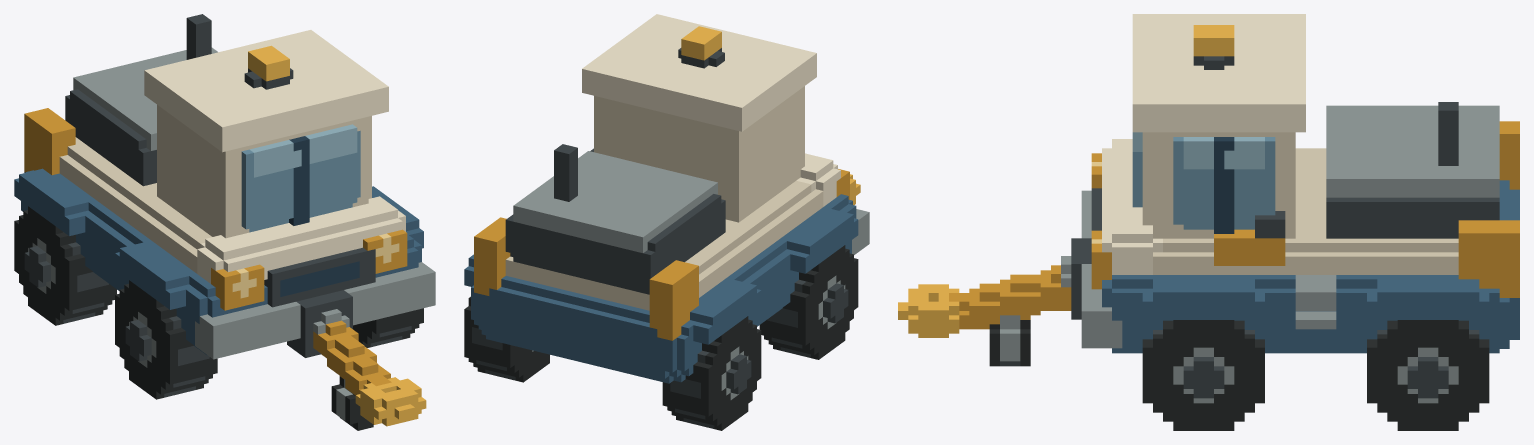
Rendered from airport_tug.glb.
3 renders of one model, left to right at view 1: azimuth 30°, elevation 25°; view 2: azimuth 150°, elevation 25°; view 3: azimuth 270°, elevation 25°, orthographic. The views are drawn at different scales.
Parts seen in each view (by area): view 1: airport_tug; view 2: airport_tug; view 3: airport_tug.
Boxes of the visible parts, x1=… form: airport_tug: x1=14, y1=14, x2=435, y2=430; airport_tug: x1=464, y1=14, x2=869, y2=430; airport_tug: x1=898, y1=14, x2=1519, y2=430.
Size of the model in its own units: 3.4 by 3.6 by 6.1.
